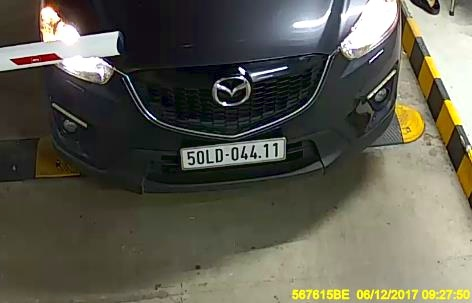plate: (171, 136, 291, 167)
